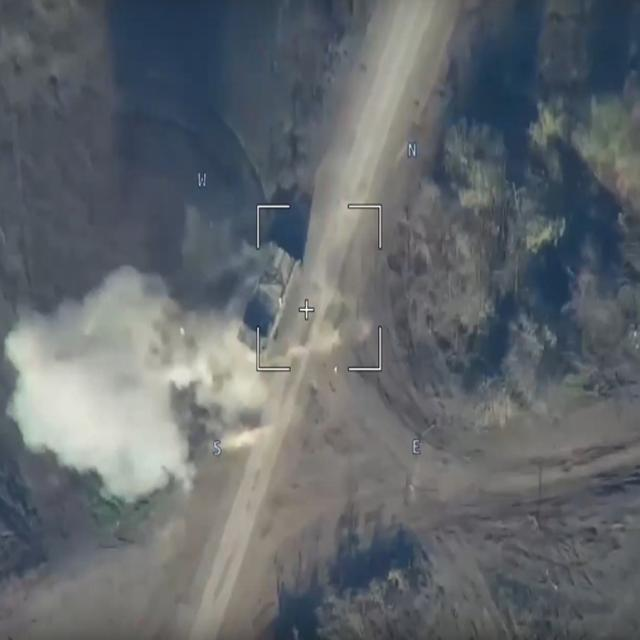cars: (236, 242, 301, 357)
